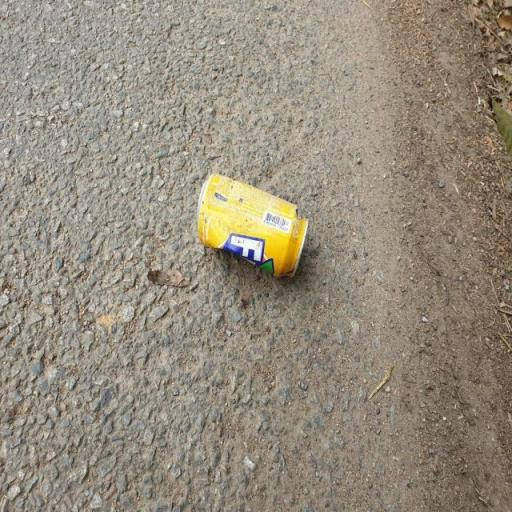metal: (166, 124, 318, 326)
